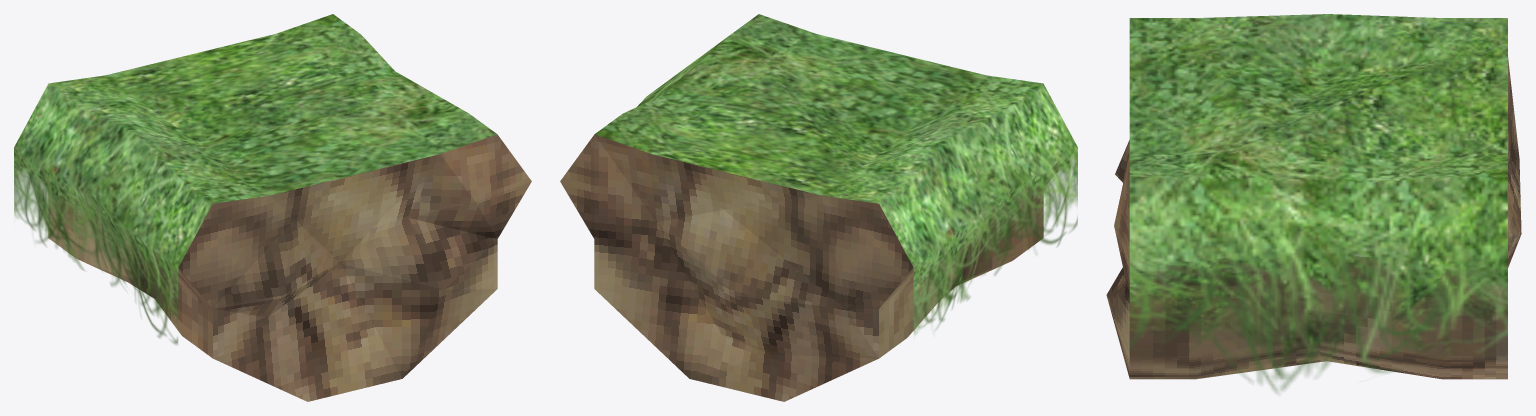
The picture shows the model from 3 angles, left to right: view 1: azimuth 30°, elevation 25°; view 2: azimuth 150°, elevation 25°; view 3: azimuth 270°, elevation 25°; orthographic projection. The views are drawn at different scales.
Visible parts, largest first — view 1: objMid, objmid; view 2: objMid, objmid; view 3: objMid, objmid.
Boxes of the visible parts, x1,y1,x2,y2 form: objMid: [14, 14, 496, 344]; objmid: [48, 134, 531, 401]; objMid: [595, 14, 1077, 335]; objmid: [560, 134, 1057, 401]; objMid: [1129, 14, 1507, 393]; objmid: [1106, 57, 1521, 379].
Bounding box in the file's own units: 257 × 153 × 219.
Materials: 2 (2 with a texture image).
